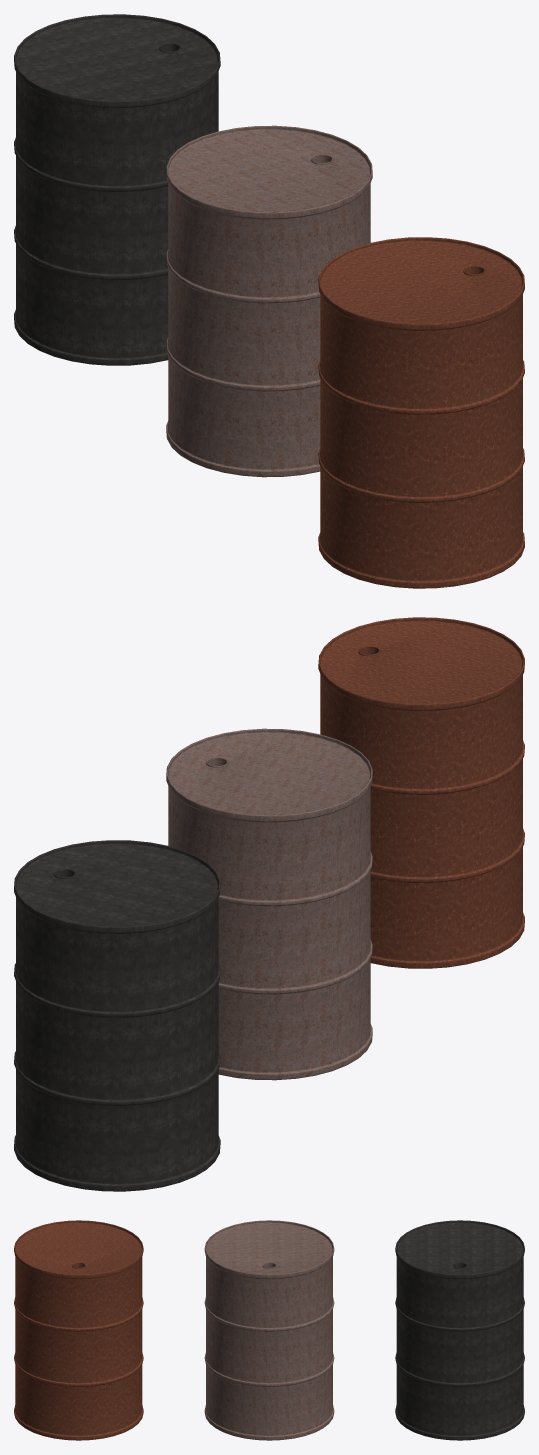
Rendered from MetalDrum.glb.
The picture shows the model from 3 angles, top to bottom: view 1: azimuth 30°, elevation 25°; view 2: azimuth 150°, elevation 25°; view 3: azimuth 270°, elevation 25°; orthographic projection. The views are drawn at different scales.
Parts seen in each view (by area): view 1: Cylinder.002, Cylinder.001, Cylinder; view 2: Cylinder.001, Cylinder.002, Cylinder; view 3: Cylinder.001, Cylinder.002, Cylinder.
Part boxes in pixels (x1,y1,x2,y2): Cylinder.002: [318, 237, 524, 588]; Cylinder.001: [14, 14, 220, 365]; Cylinder: [166, 125, 372, 477]; Cylinder.001: [14, 840, 220, 1191]; Cylinder.002: [318, 617, 524, 968]; Cylinder: [166, 728, 372, 1080]; Cylinder.001: [395, 1220, 524, 1440]; Cylinder.002: [14, 1220, 143, 1440]; Cylinder: [204, 1220, 334, 1440].
Bounding box in the file's own units: 5.1 × 7.2 × 20.1.
3 materials, 3 textured.
